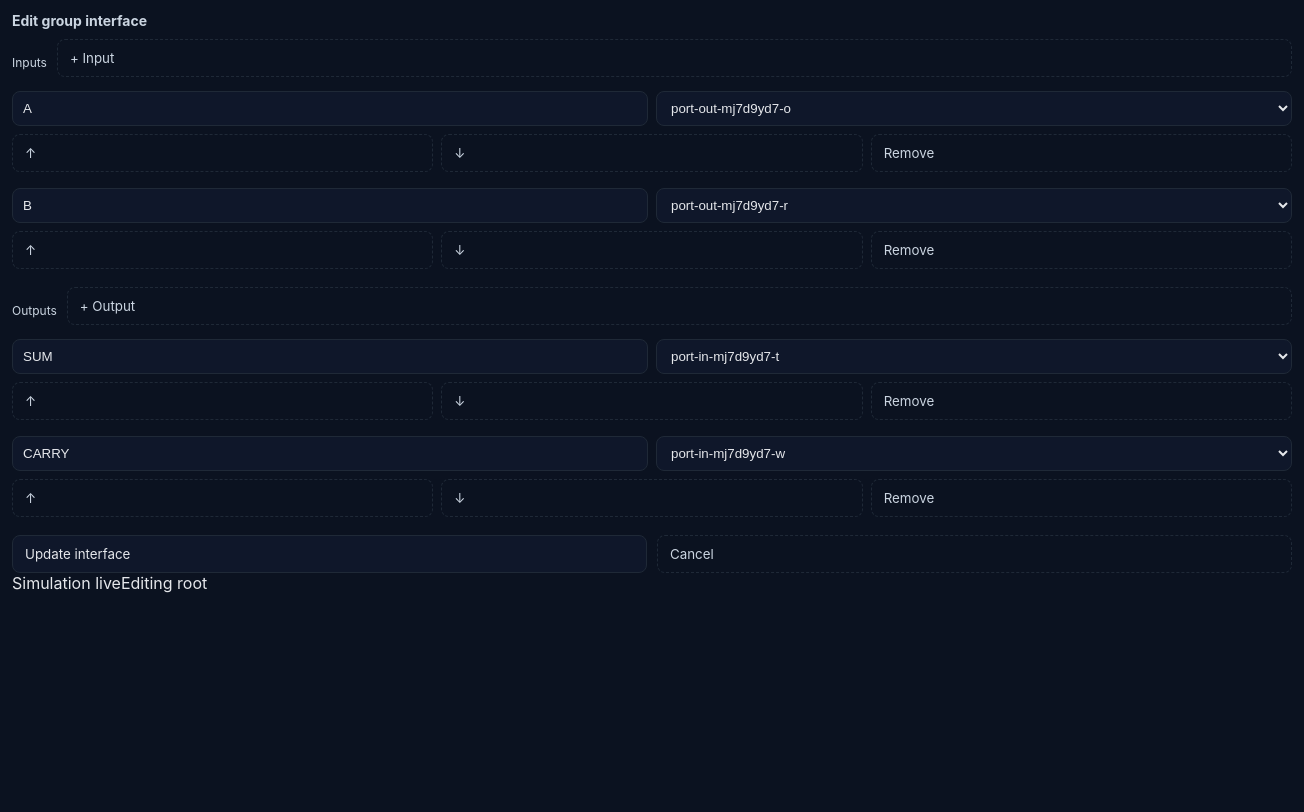
Test: group interface edit warning › warns before disconnecting wires and shows "rewiring required" feedback after confirm
The image size is (1304, 812).
Click the button "Update interface".
click(78, 554)  # box [12, 535, 647, 573]
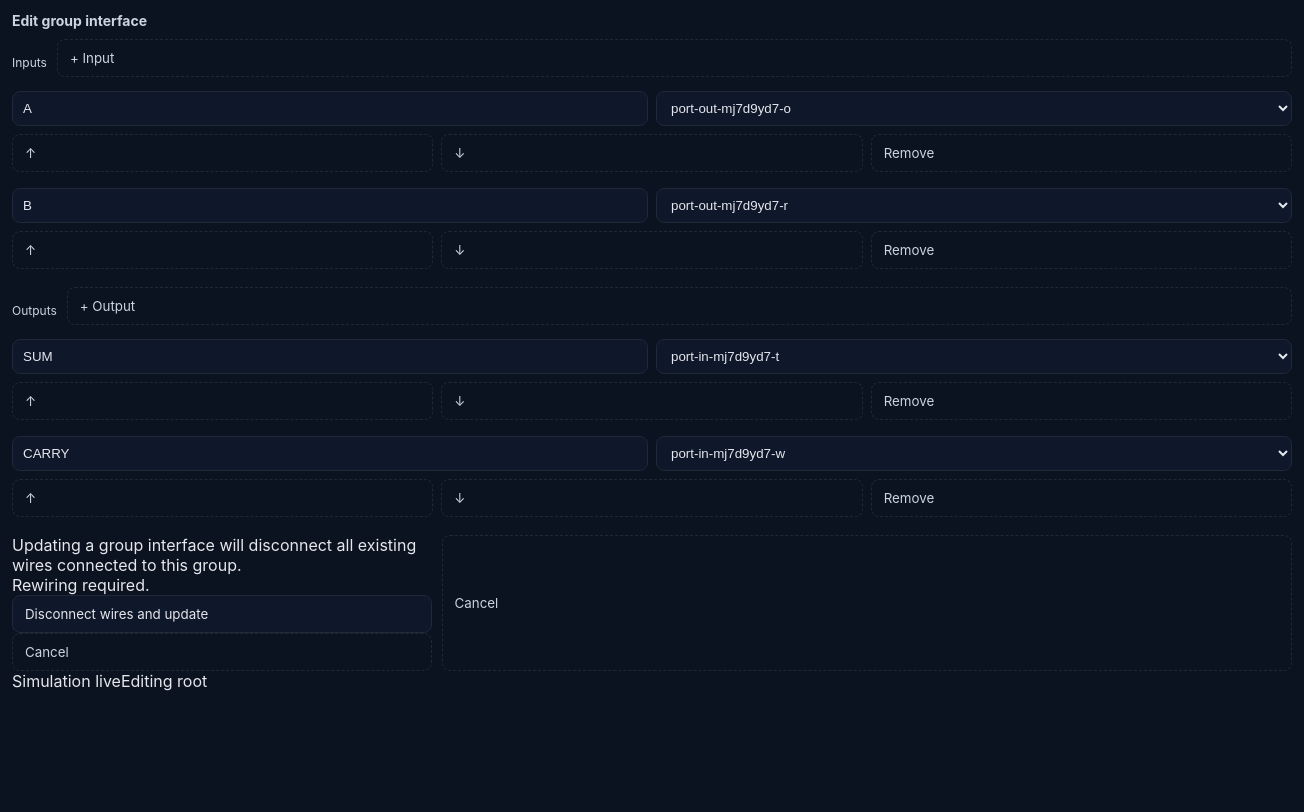
Now the 1st message shows "disconnect", box [12, 535, 416, 575]
Now the 1st message shows "rewiring required", box [12, 575, 150, 595]
Click the button "Disconnect wires and update".
click(117, 614)  # box [12, 595, 432, 633]
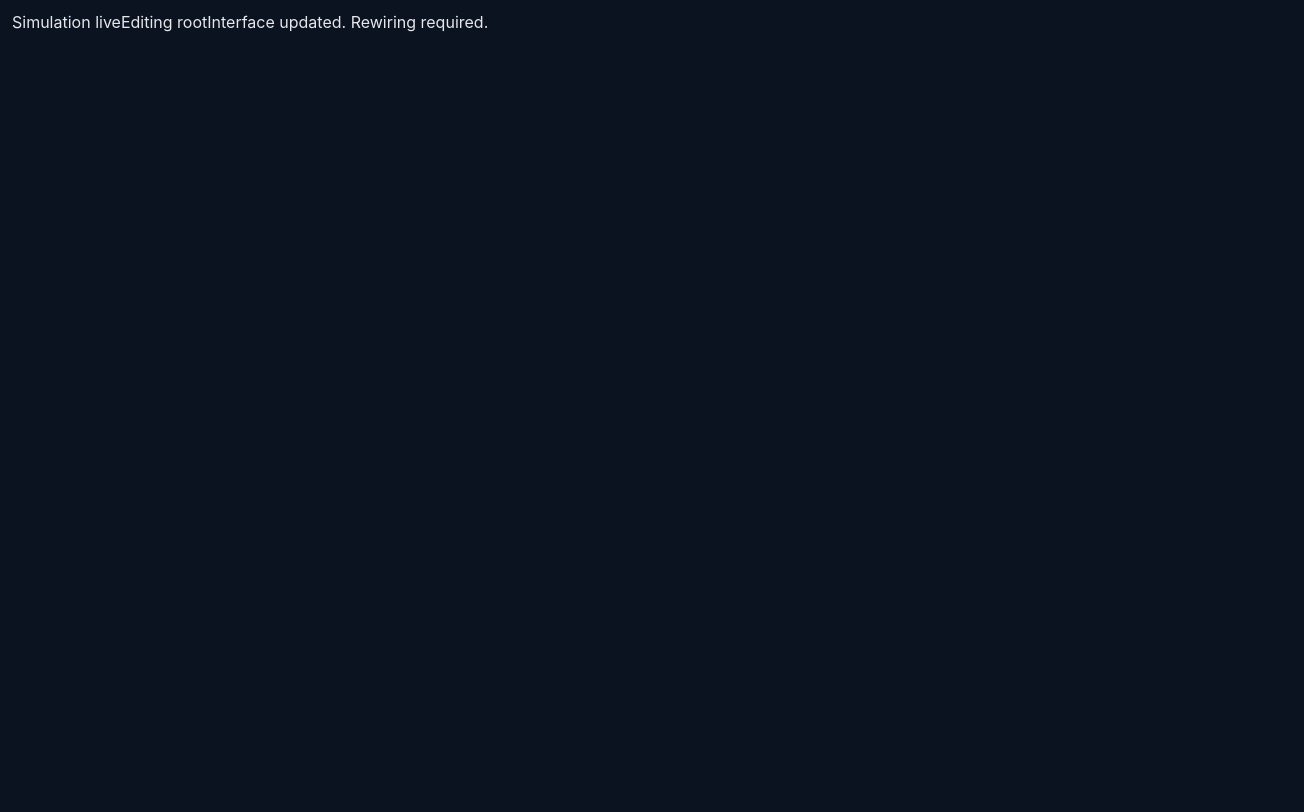
Now the message shows "Rewiring required", box [207, 12, 488, 32]
